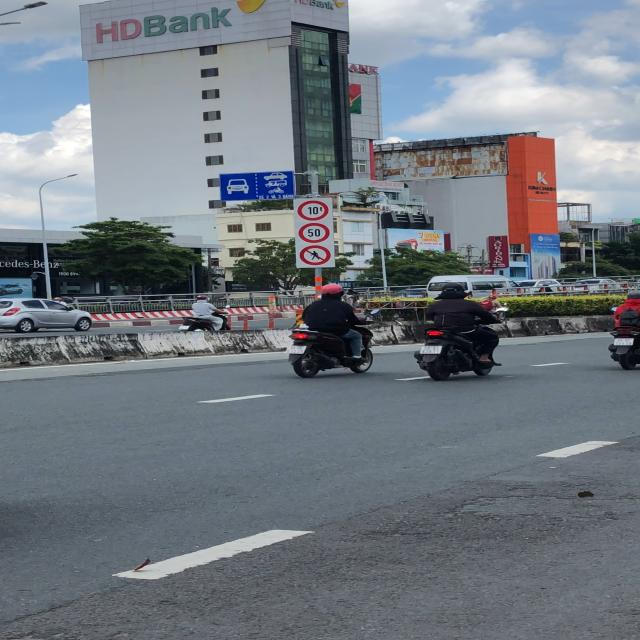Bien bao toc do toi da cho phep: (295, 221, 330, 243)
